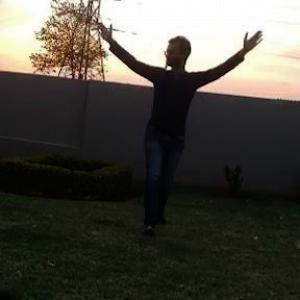takeoff: (98, 21, 277, 226)
